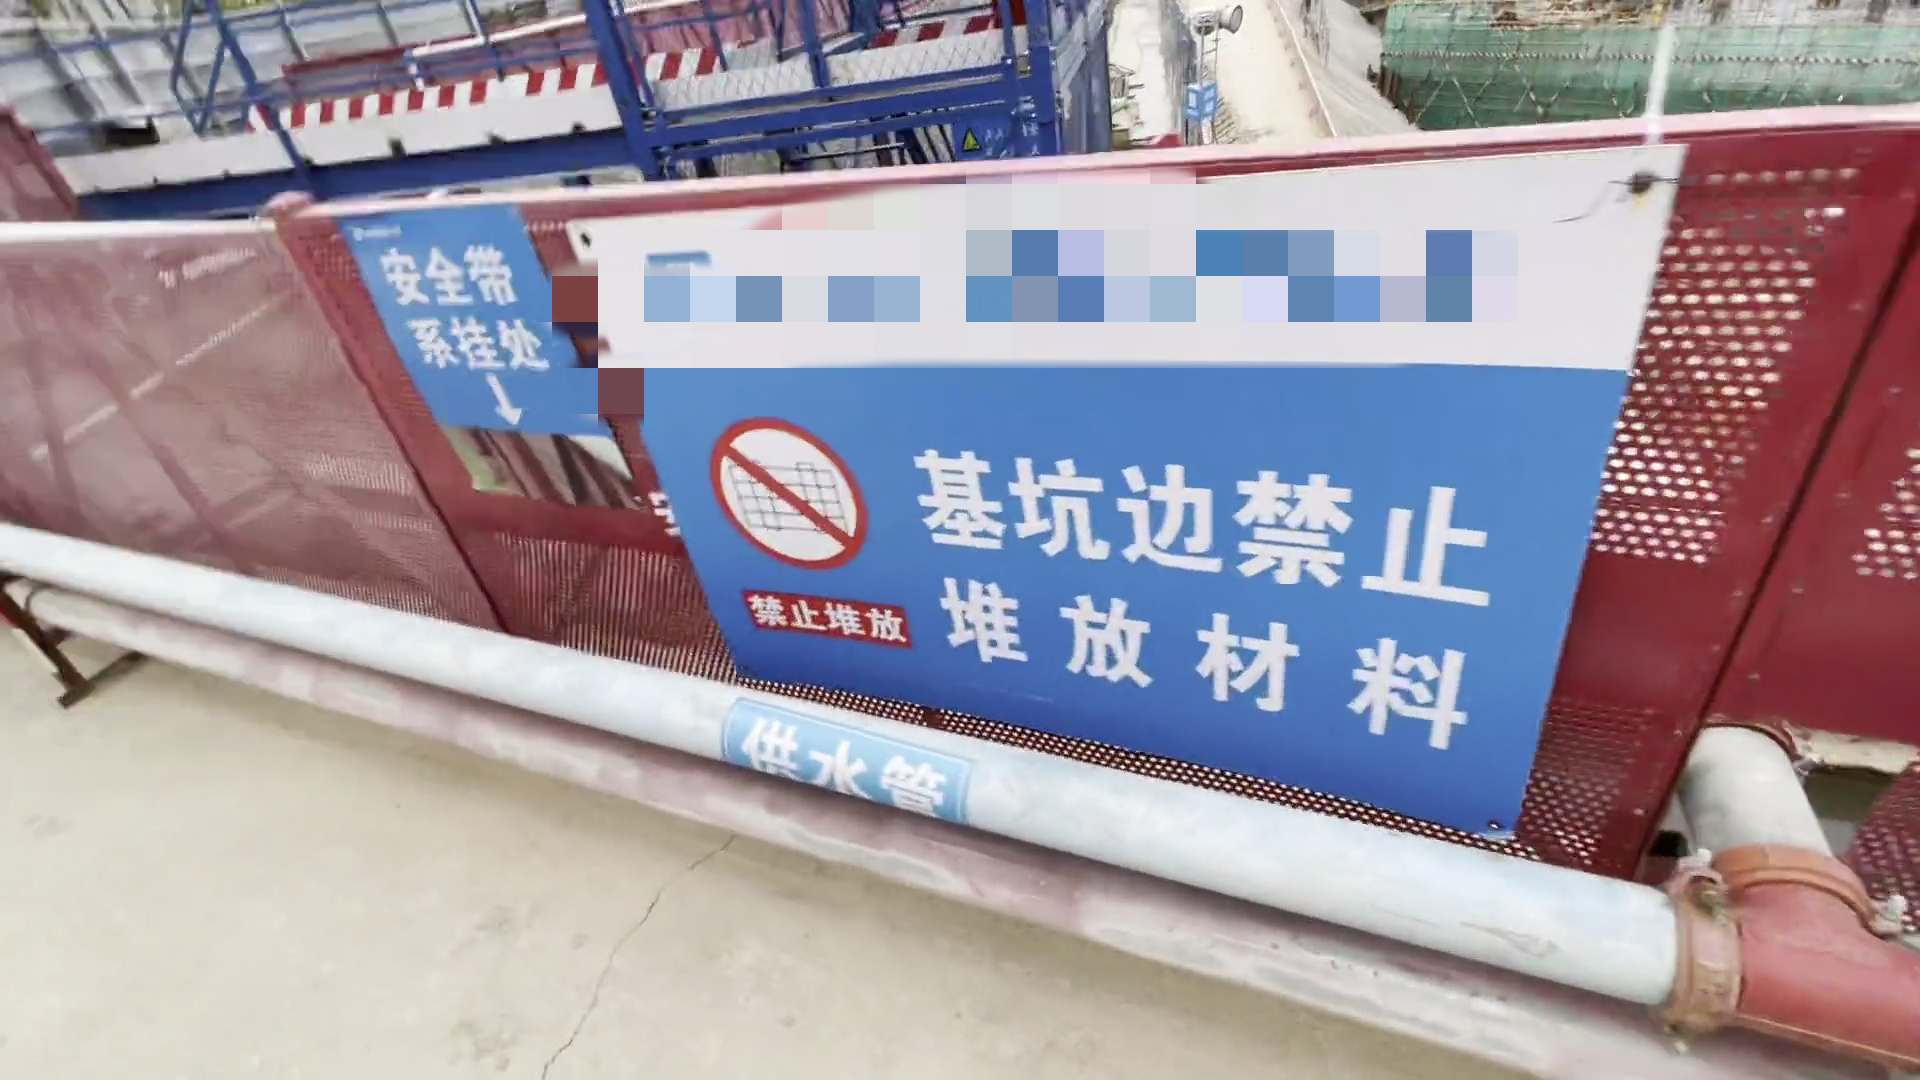fence: (1, 187, 1886, 862)
slogan: (332, 196, 1545, 758)
